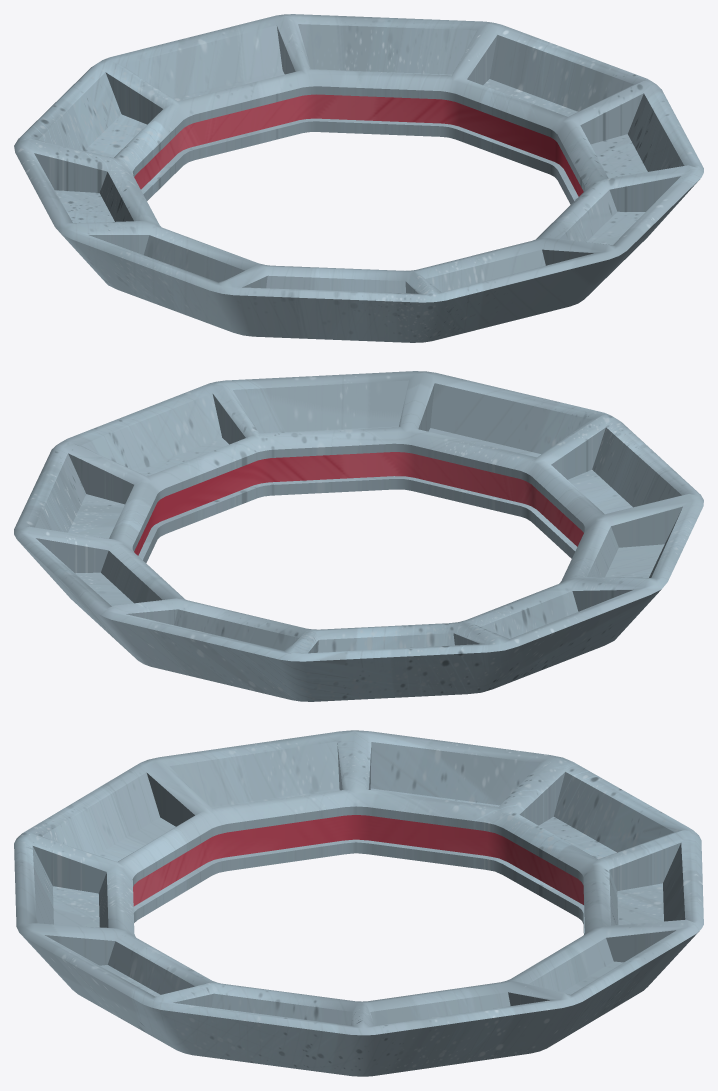
The model's file is AmmoTray.fbx.
3 renders of one model, top to bottom at view 1: azimuth 30°, elevation 25°; view 2: azimuth 150°, elevation 25°; view 3: azimuth 270°, elevation 25°, orthographic. The views are drawn at different scales.
Visible parts, largest first — view 1: Ammo Tray; view 2: Ammo Tray; view 3: Ammo Tray.
Boxes of the visible parts, x1,y1,x2,y2 form: Ammo Tray: (14, 14, 703, 342); Ammo Tray: (14, 371, 703, 701); Ammo Tray: (14, 730, 703, 1076).
Size of the model in its own units: 232 by 27.24 by 223.
